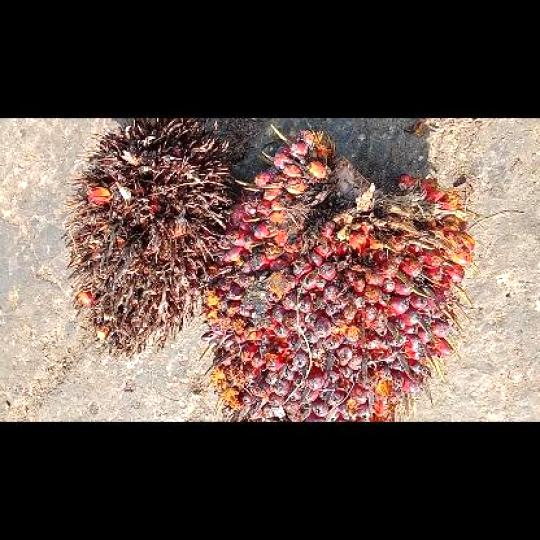masak: (198, 125, 480, 420)
terlalu masak: (62, 118, 232, 357)
